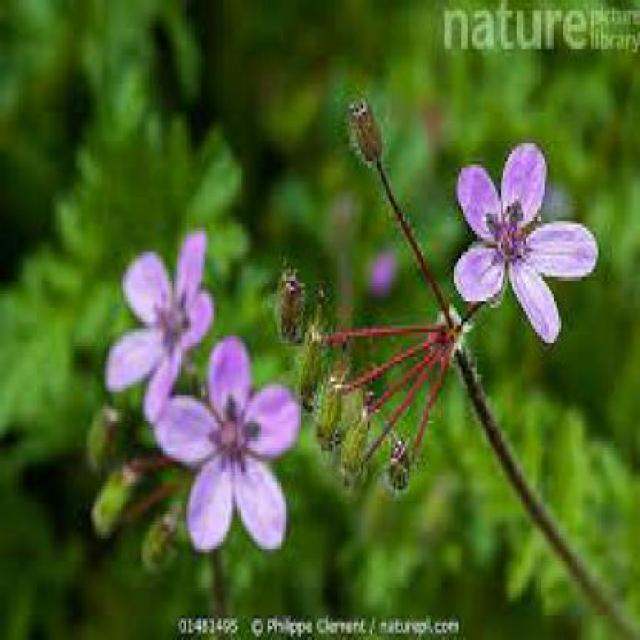flower: (157, 327, 301, 565), (444, 138, 601, 338), (97, 220, 220, 417)
